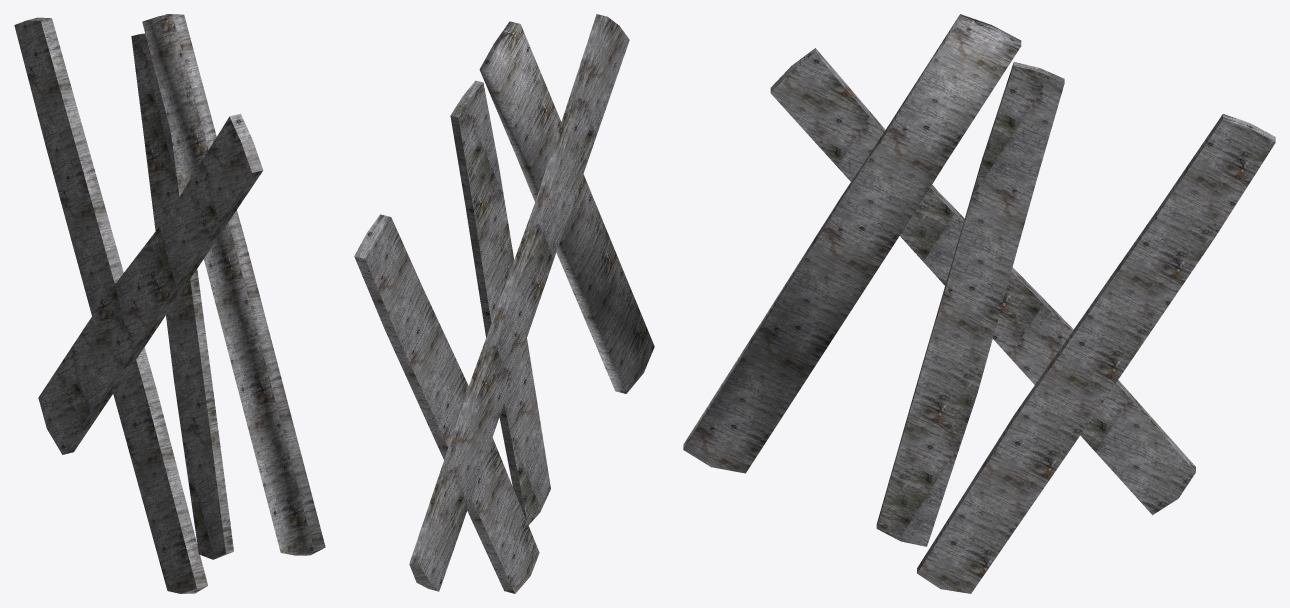
The model's file is wood_fortif2.FBX.
3 renders of one model, left to right at view 1: azimuth 30°, elevation 25°; view 2: azimuth 150°, elevation 25°; view 3: azimuth 270°, elevation 25°, orthographic. The views are drawn at different scales.
Visible parts, largest first — view 1: Old_DoorPlank_01; view 2: Old_DoorPlank_01; view 3: Old_DoorPlank_01.
Part boxes in pixels (bbox=[...]): Old_DoorPlank_01: bbox=[14, 14, 325, 593]; Old_DoorPlank_01: bbox=[354, 14, 654, 593]; Old_DoorPlank_01: bbox=[683, 14, 1275, 593].
Size of the model in its own units: 0.8024 by 11.88 by 11.1.
1 material, 1 textured.
